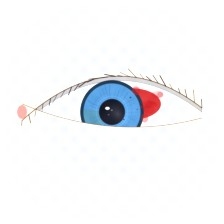hemorrhage_spot: (93, 73, 172, 135)
